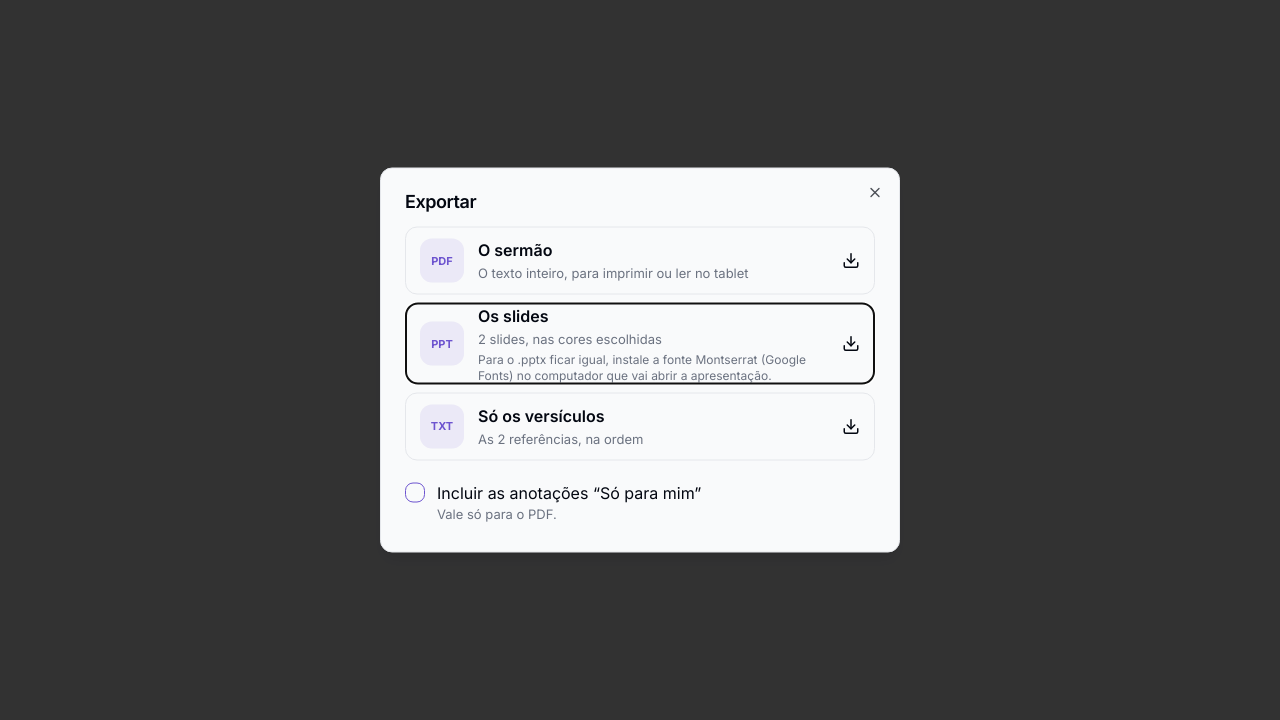
Scenario: ExportDialog › a caixa das anotações volta desmarcada quando o diálogo reabre
Later steps or results of the test are not shown.
Expected: the button "PDF" is enabled, [405,226,875,294]
Step 1. Click the checkbox named "Incluir as anotações" → (415, 492), box [405,482,425,502]
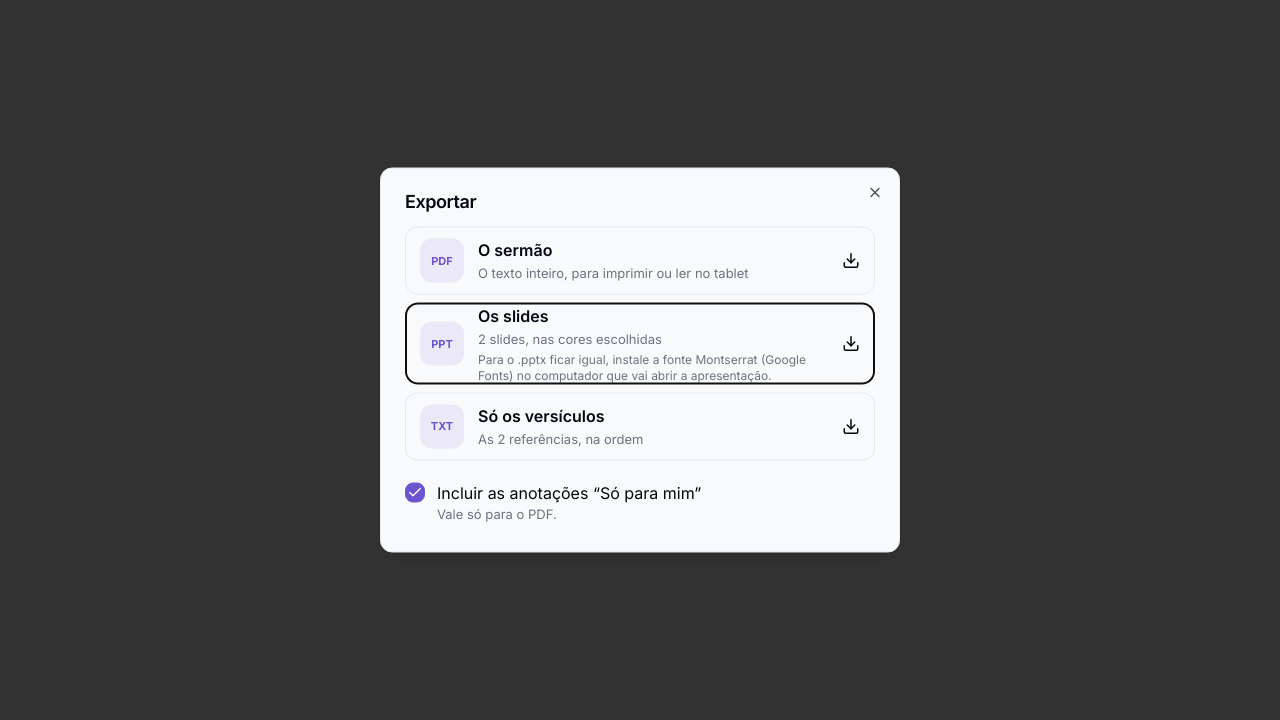
Now the checkbox named "Incluir as anotações" is checked, box [405,482,425,502]
